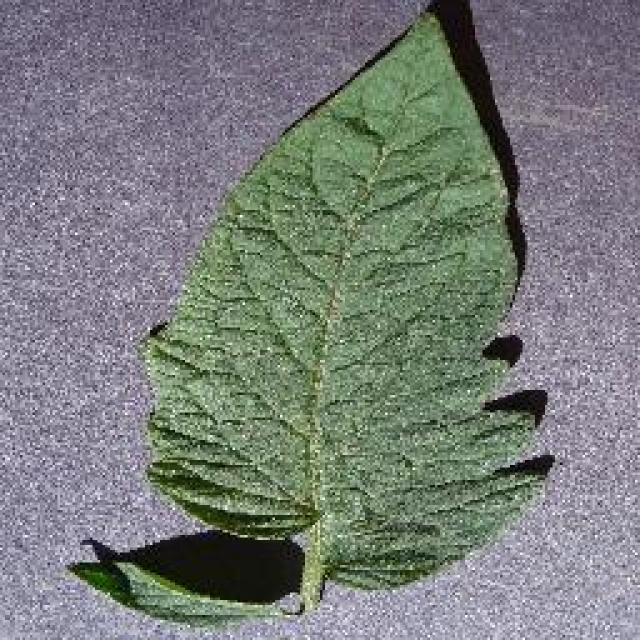Tomato_Healthy: (142, 17, 561, 582)
